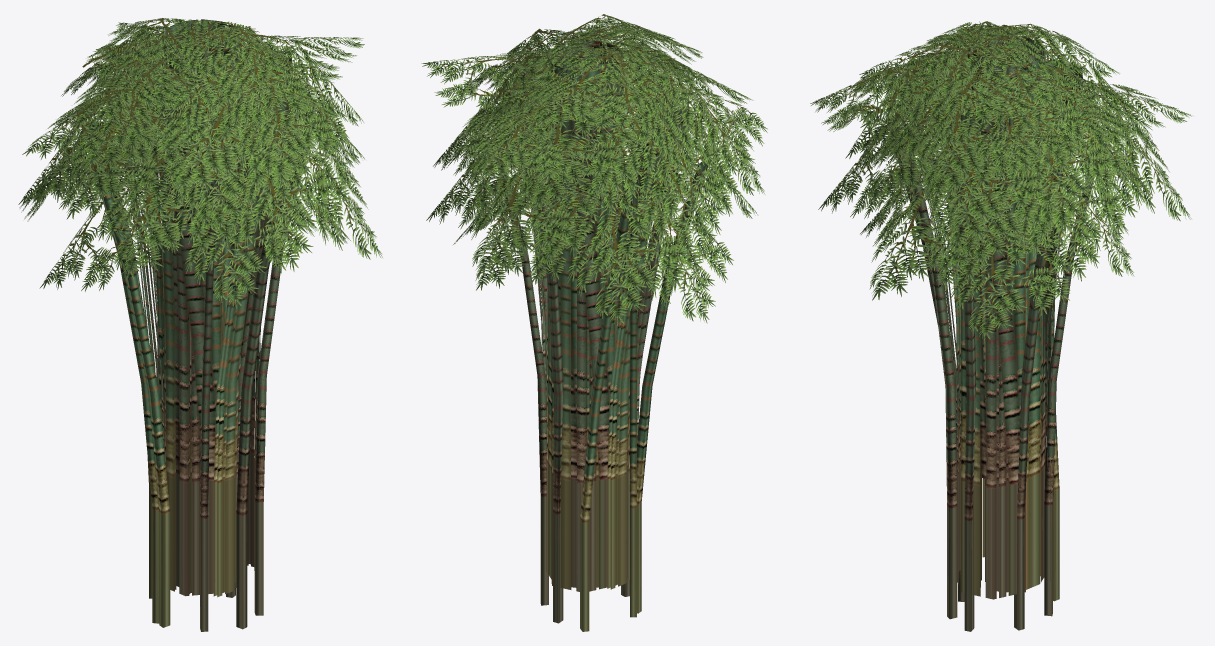
Rendered from bamboo_dragon_1.glb.
3 views of the same model, side by side, from view 1: azimuth 30°, elevation 25°; view 2: azimuth 150°, elevation 25°; view 3: azimuth 270°, elevation 25° (orthographic). The views are drawn at different scales.
Visible parts, largest first — view 1: bamboo_dragon_1; view 2: bamboo_dragon_1; view 3: bamboo_dragon_1.
Part boxes in pixels (x1=…): bamboo_dragon_1: x1=18, y1=18, x2=382, y2=631; bamboo_dragon_1: x1=421, y1=14, x2=767, y2=631; bamboo_dragon_1: x1=810, y1=21, x2=1191, y2=631.
Bounding box in the file's own units: 26.95 × 43.22 × 26.91.
1 material, 1 textured.
